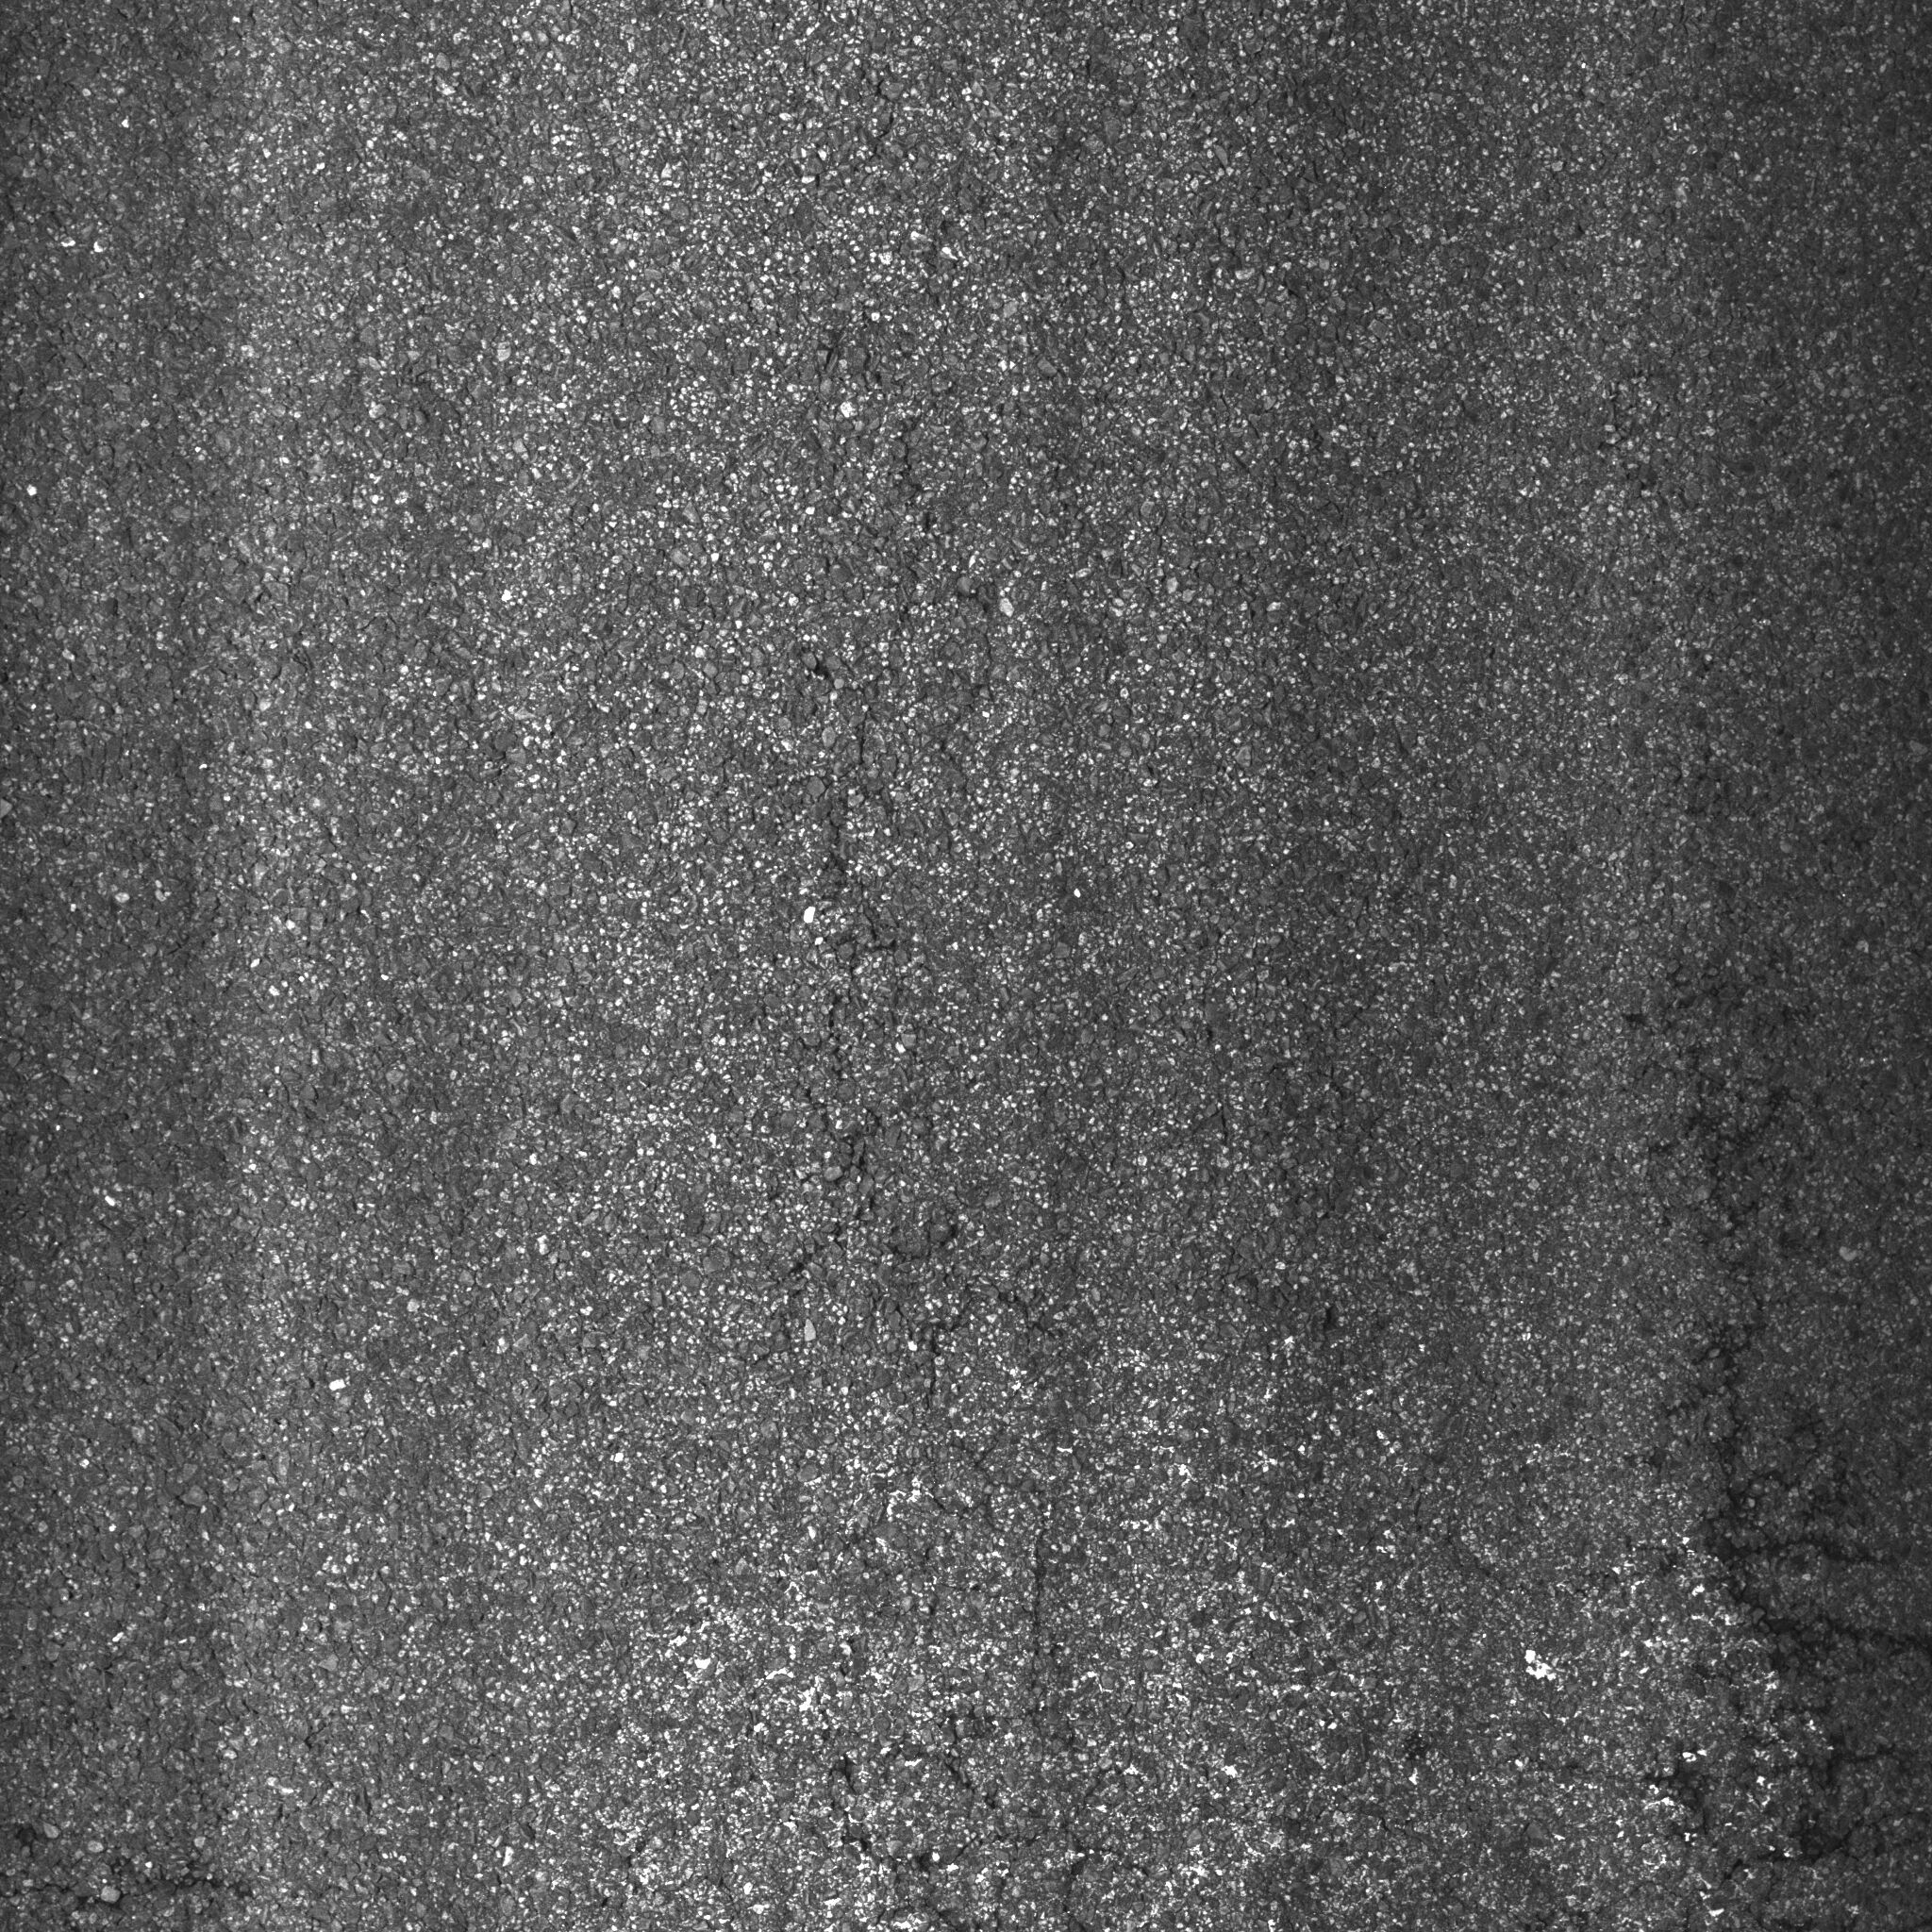longitudinal: (757, 180, 1040, 1507)
